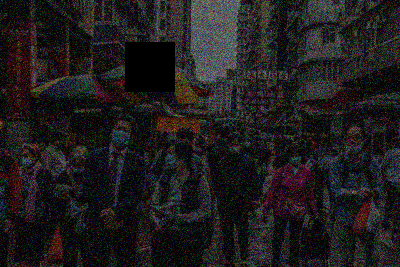mask_weared_incorrect: (346, 132, 364, 153)
with_mask: (112, 124, 132, 148), (165, 149, 180, 171), (21, 152, 34, 168), (228, 142, 241, 157), (71, 161, 85, 174), (289, 153, 303, 166), (59, 140, 66, 150), (244, 140, 251, 148), (307, 139, 313, 145)
without_mask: (260, 141, 266, 148)
